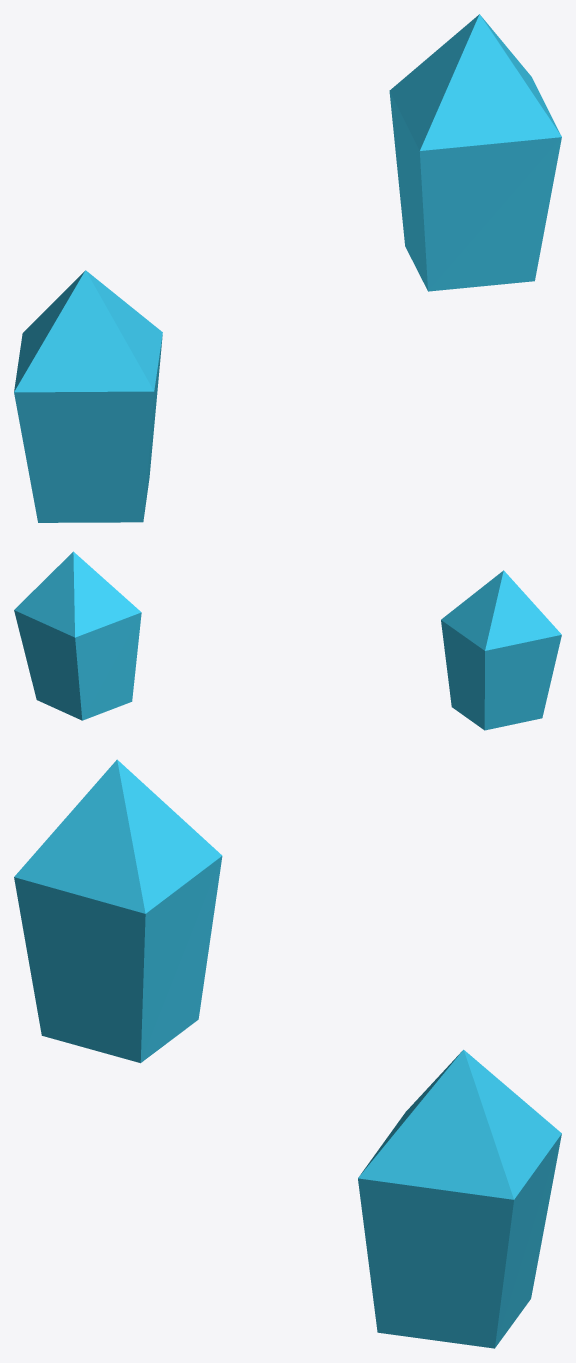
File: crystal_aqua_1.obj
3 views of the same model, one above another, from view 1: azimuth 30°, elevation 25°; view 2: azimuth 150°, elevation 25°; view 3: azimuth 270°, elevation 25° (orthographic). The views are drawn at different scales.
Parts seen in each view (by area): view 1: s014, s015; view 2: s014, s015; view 3: s015, s014.
Part boxes in pixels (<box>): s014: <box>389,14,561,291</box>; s015: <box>14,270,162,522</box>; s014: <box>14,551,141,720</box>; s015: <box>441,570,561,730</box>; s015: <box>14,759,222,1063</box>; s014: <box>358,1049,561,1348</box>.
Size of the model in its own units: 0.8279 by 0.2728 by 0.4947.
